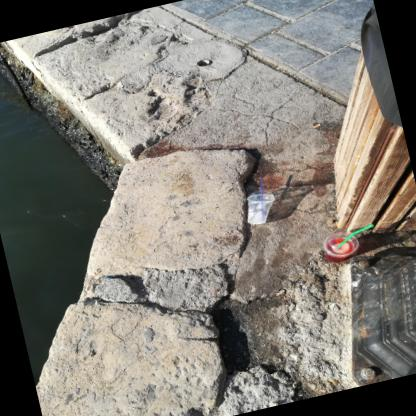Paper: (312, 124, 321, 128), (271, 30, 278, 34), (336, 221, 338, 228)
Plastic: (322, 232, 360, 263), (247, 190, 276, 224), (337, 224, 374, 249), (323, 232, 359, 257), (247, 190, 275, 199), (261, 178, 265, 218)
